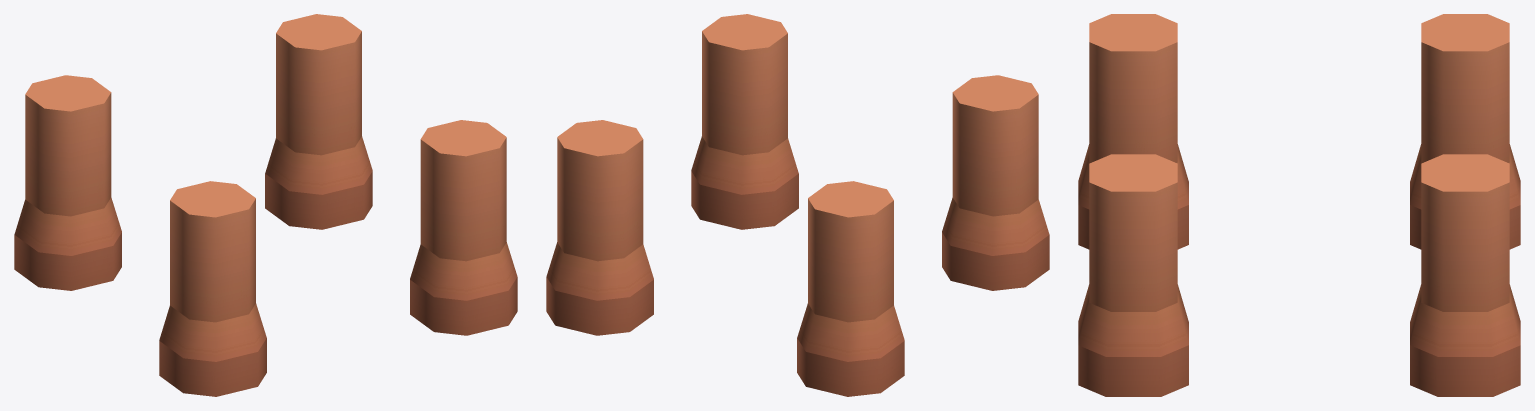
File: supports-low-bottom.glb
3 views of the same model, side by side, from view 1: azimuth 30°, elevation 25°; view 2: azimuth 150°, elevation 25°; view 3: azimuth 270°, elevation 25° (orthographic). The views are drawn at different scales.
Visible parts, largest first — view 1: supports-low-bottom; view 2: supports-low-bottom; view 3: supports-low-bottom.
Boxes of the visible parts, x1,y1,x2,y2 form: supports-low-bottom: (14,14,517,396); supports-low-bottom: (546,14,1049,396); supports-low-bottom: (1078,14,1520,396).
Size of the model in its own units: 1 by 0.5 by 1.
Materials: 1 (1 with a texture image).
